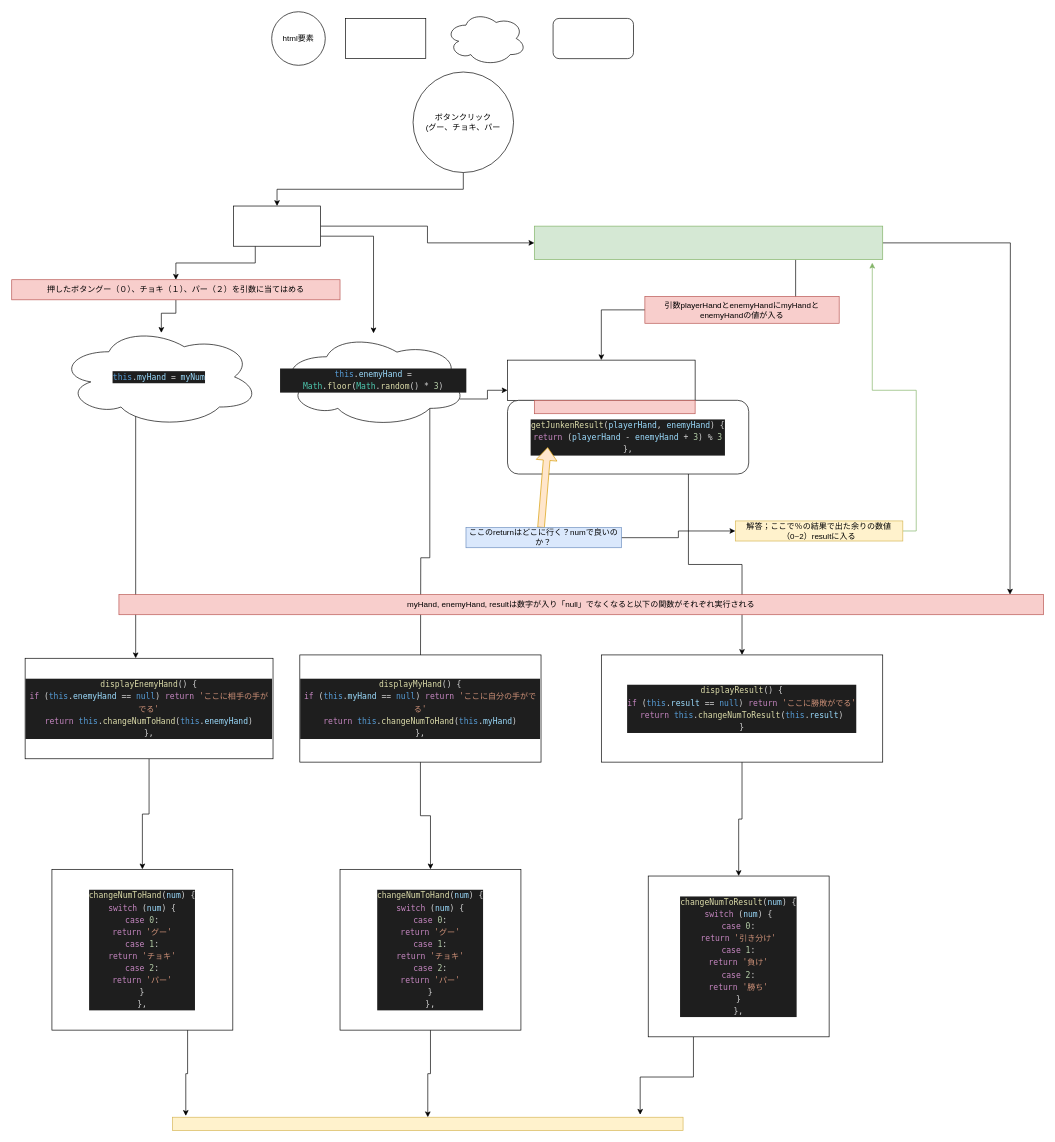
Image size: 1055x1142. Some labels were removed from this diagram. Each missing label, with the box of its shape:
getJunkenResult ( this . myHand , this . enemyHand ): (507, 359, 695, 400)
junken(myNum): (233, 205, 321, 246)
this . result = this . getJunkenResult ( this . myHand , this . enemyHand ) }: (534, 225, 883, 260)
この結果がhtml側の各マスタッシュに入ル（グーチョキパー・勝ち、負け、あいこ: (172, 1117, 683, 1131)
この関数に上記引数が代入される: (534, 400, 695, 414)
代入など: (445, 11, 526, 65)
補足: (552, 18, 633, 59)
関数: (345, 18, 426, 59)
